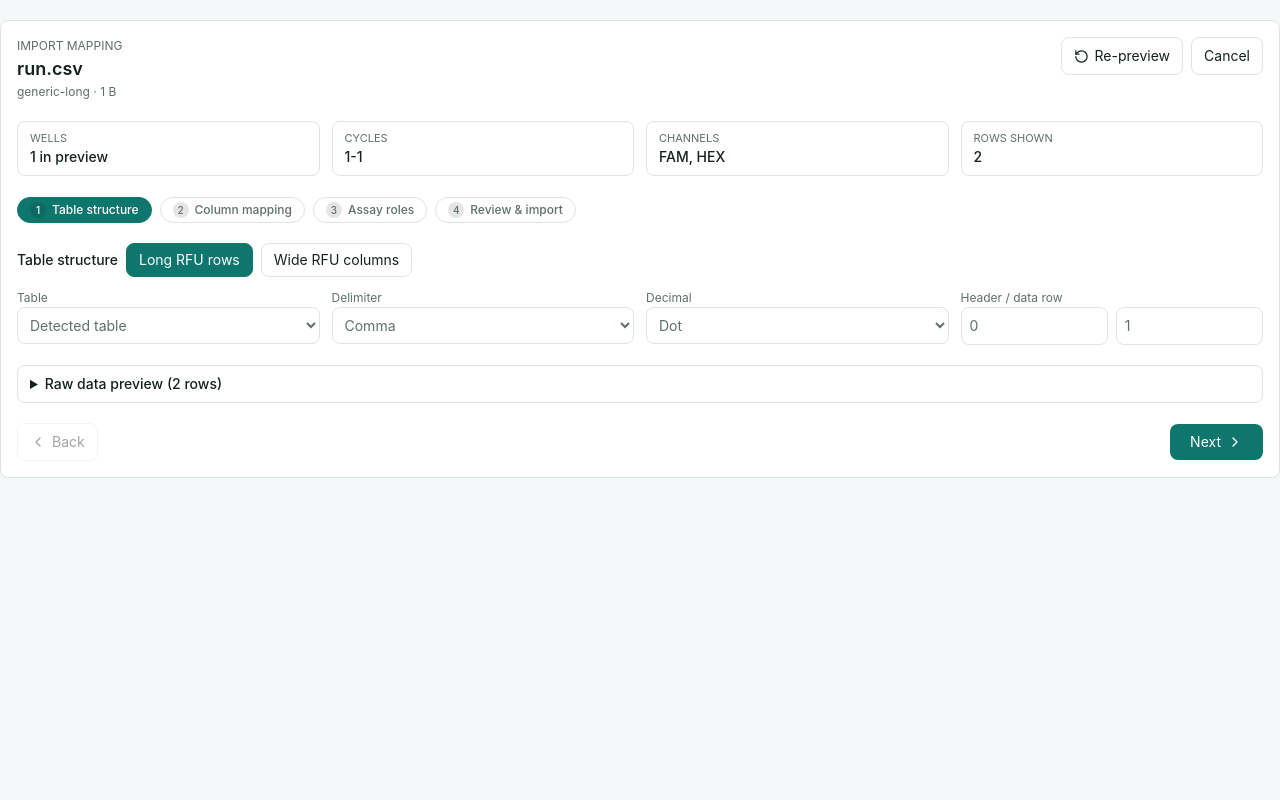
Test: ImportMappingWizard (guided flow) › keeps mapping but never renders a secret-bearing parse failure
Click the button with test id "wizard-next". click: (1217, 442)
box: [1170,424,1263,460]
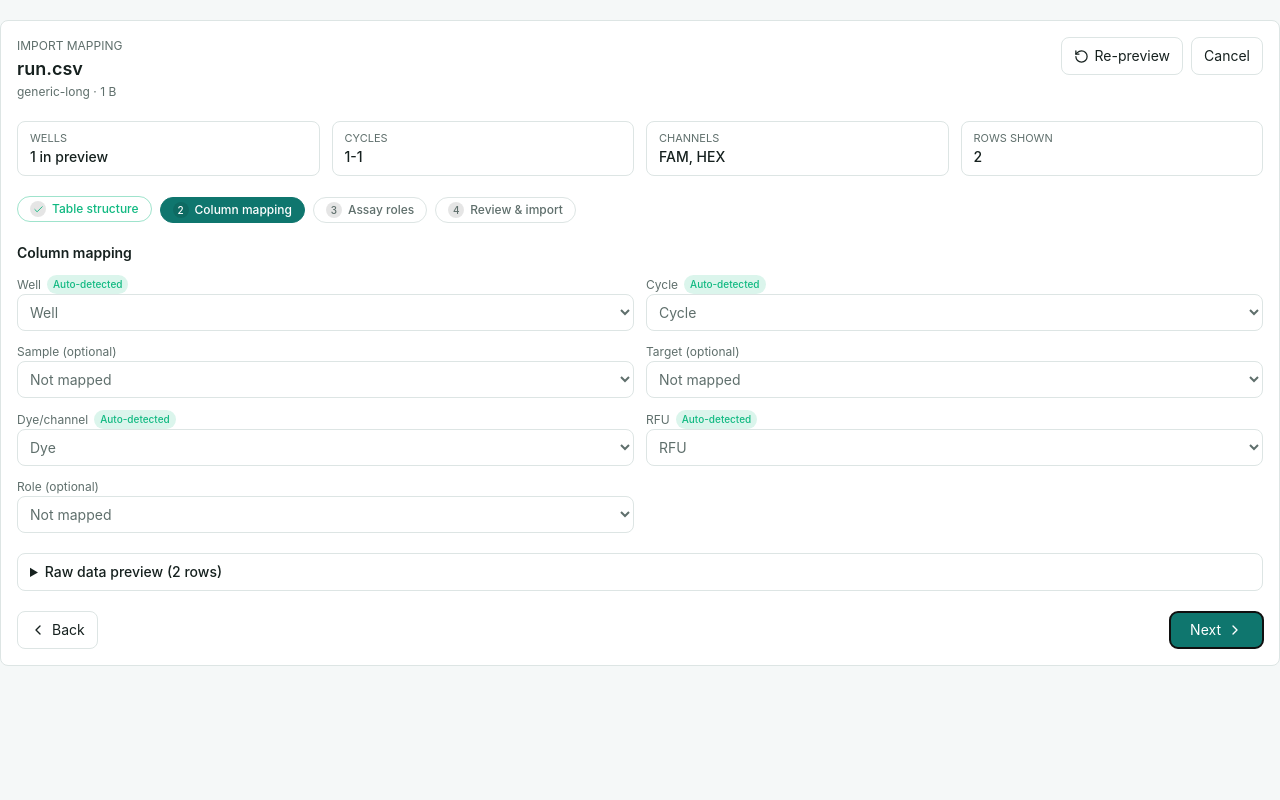
Click the button with test id "wizard-next". click: (1217, 630)
box: [1170,612,1263,648]
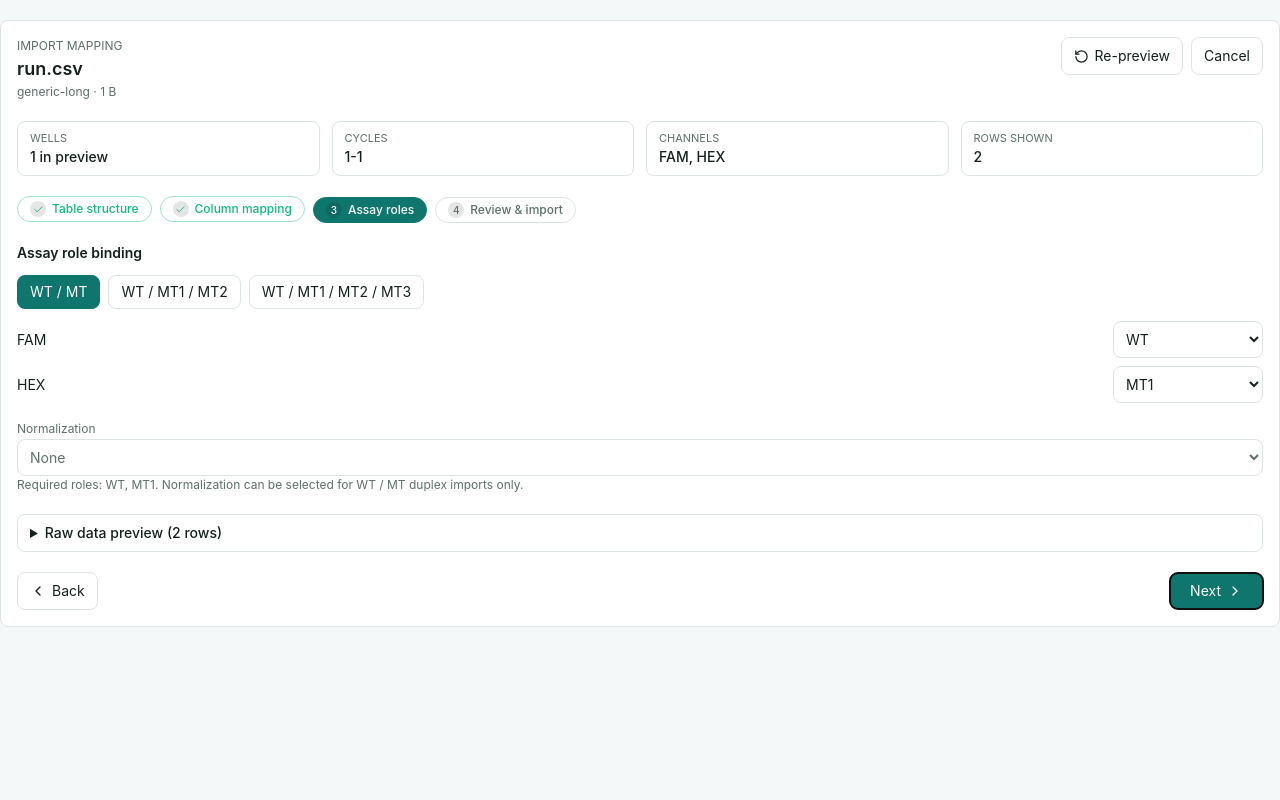
Click the button with test id "wizard-next". click: (1217, 591)
box: [1170,573,1263,609]
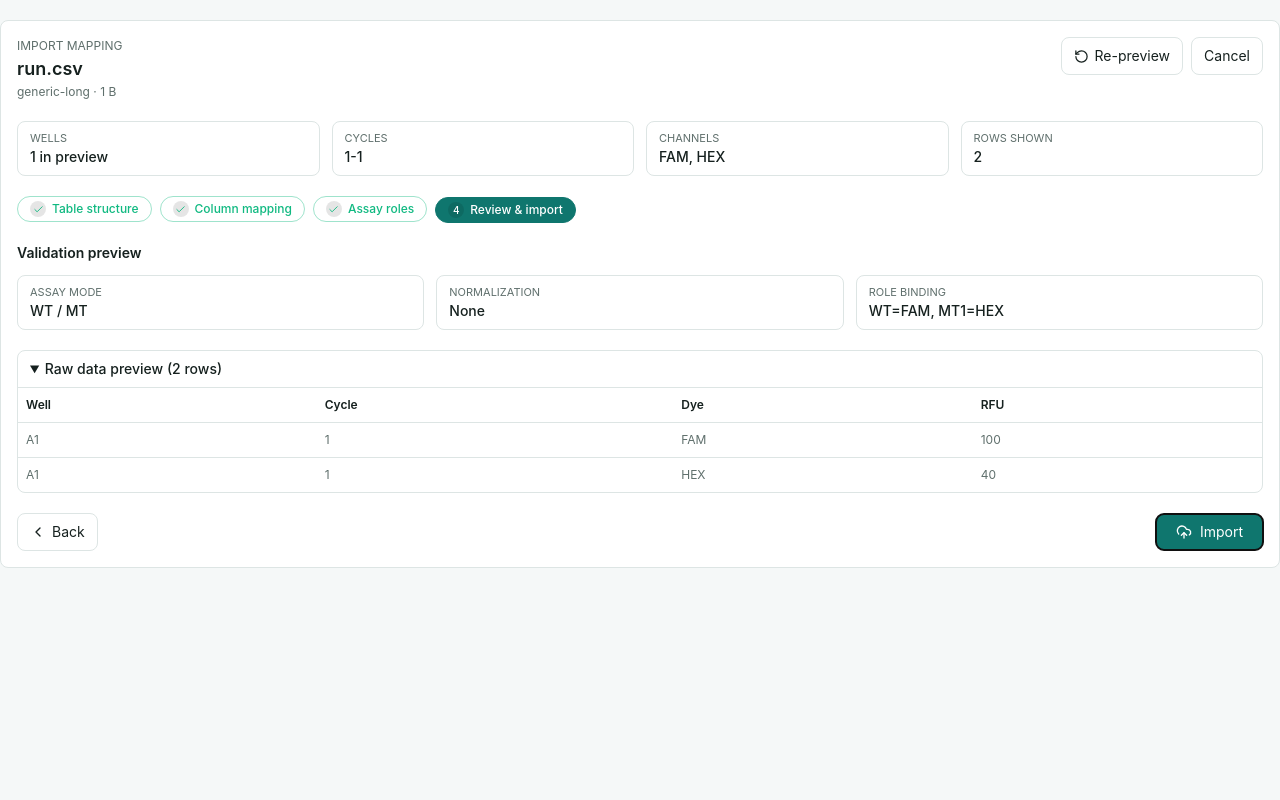
Click the button with test id "wizard-import". click: (1209, 532)
box: [1156,514,1263,550]
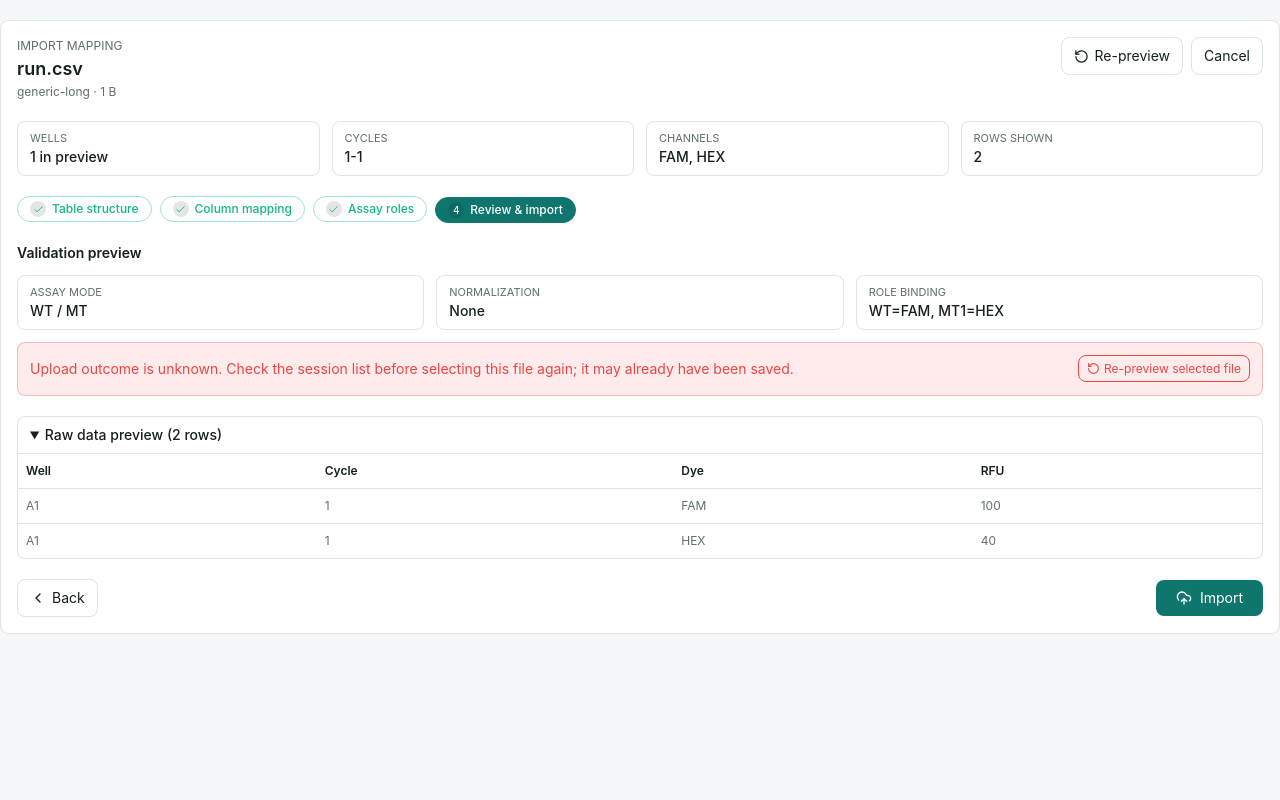
Check: the text "outcome is unknown" is shown, box [30,360,794,377]
